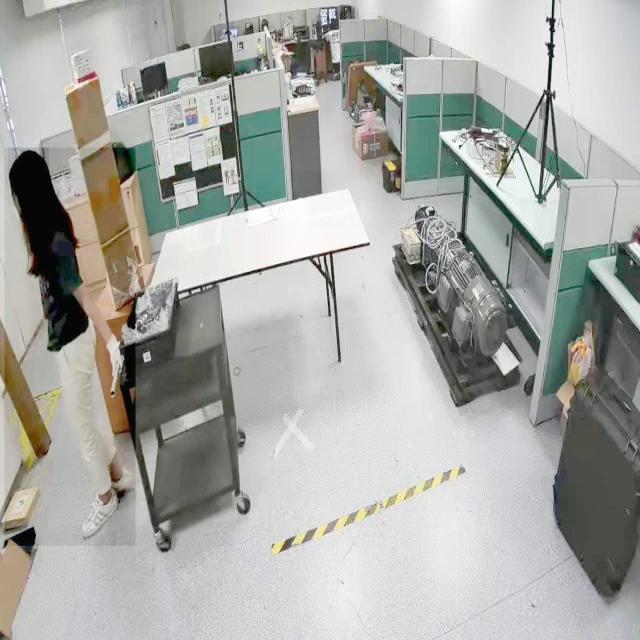hand_glove: (99, 328, 125, 386)
head_nohelmet: (8, 148, 50, 180)
person: (4, 148, 136, 546)
shoes: (78, 480, 122, 543)
